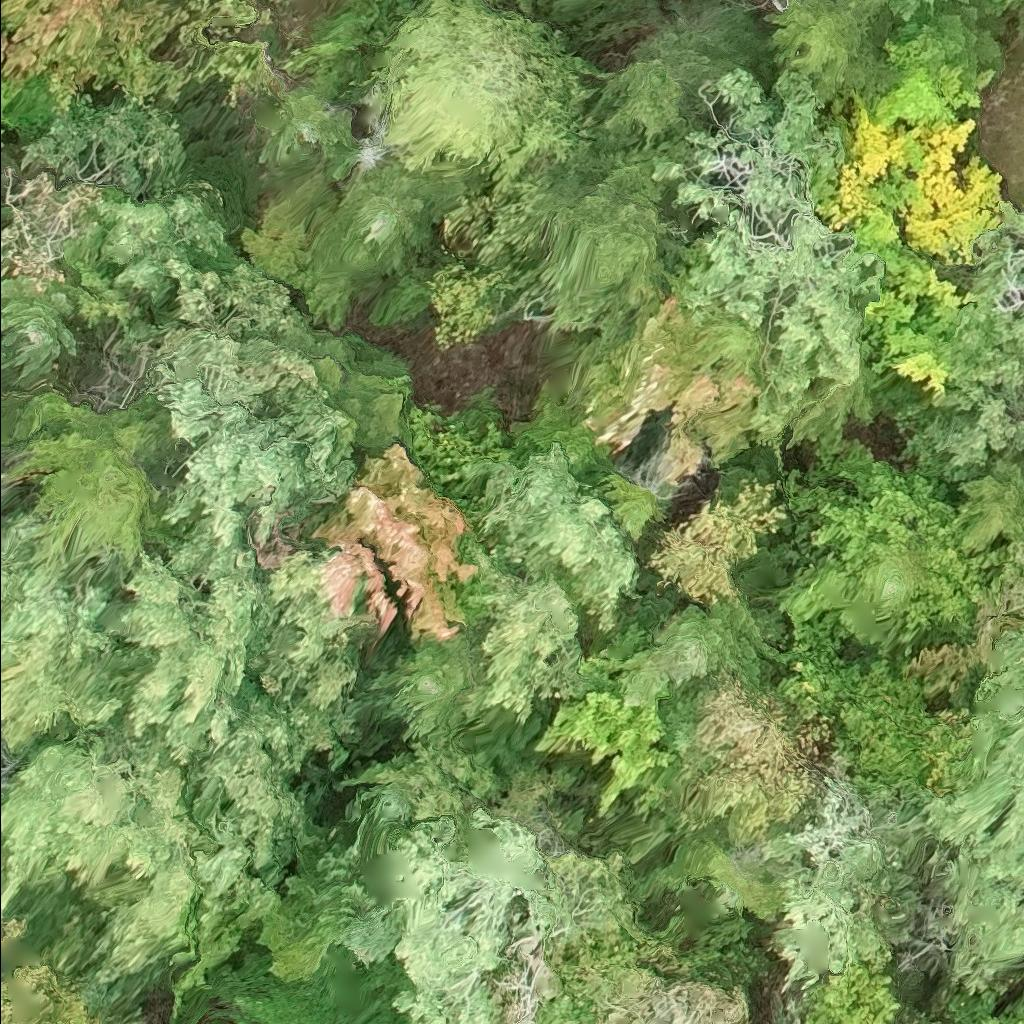crown: (887, 0, 968, 23), (966, 0, 1023, 17)
